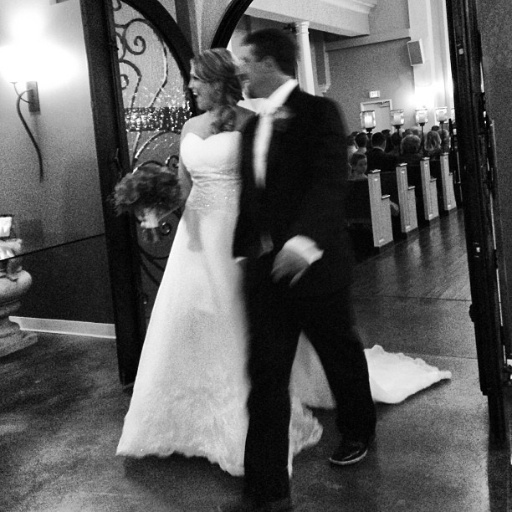hand: (269, 242, 307, 281)
